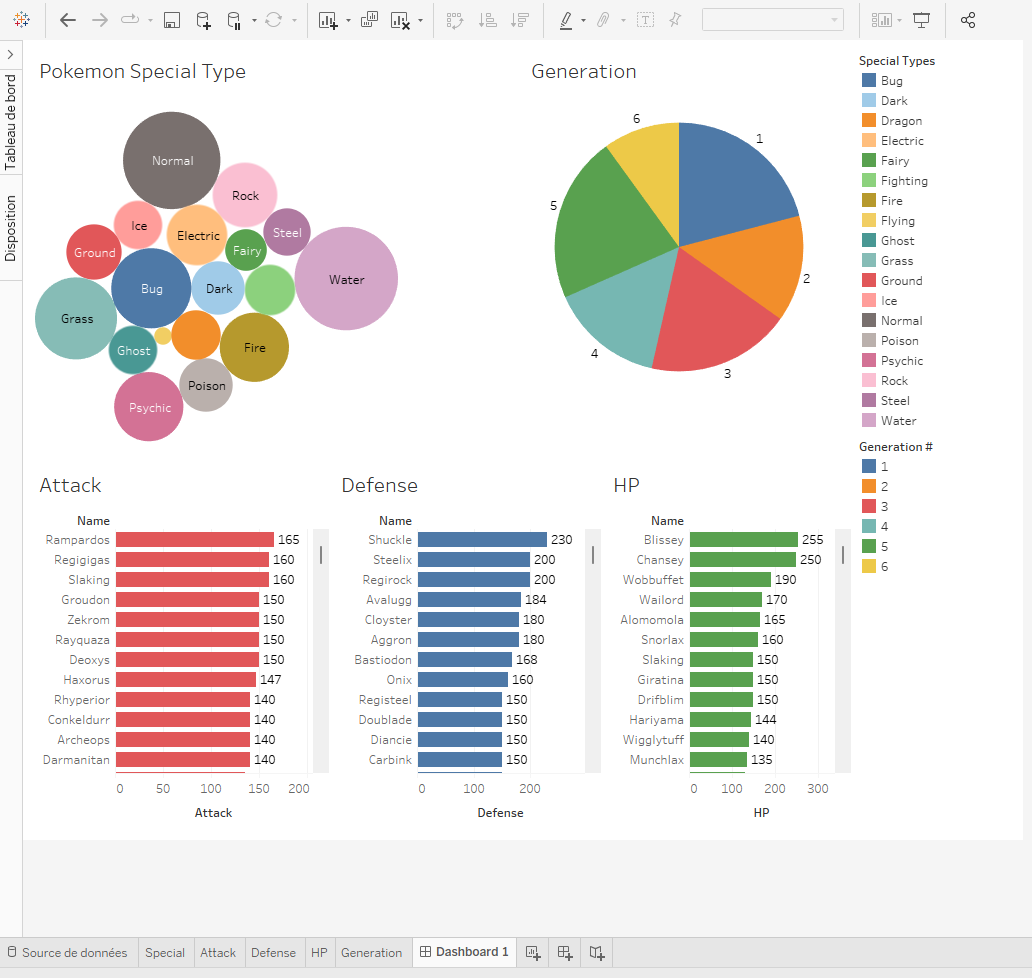

The page's visual inventory and layout, read from the dashboard file:
{"tool":"tableau","page":{"name":"Dashboard 1","canvas":[1000,800],"ordinal":0},"visuals":[{"type":"worksheet","title":"Special","mark":"Circle","box":[8,8,492,414]},{"type":"worksheet","title":"Generation","mark":"Pie","box":[500,8,332,414]},{"type":"legend","title":"Special","param":"[federated.1n69bmu0i95qzx1b2901k1pttq0b].[none:Type_1:nk]","box":[832,8,160,386]},{"type":"legend","title":"Generation","param":"[federated.1n69bmu0i95qzx1b2901k1pttq0b].[Generation (group)]","box":[832,394,160,146]},{"type":"worksheet","title":"Attack","mark":"Automatic","rows":["Name"],"cols":["Attack"],"box":[8,422,302,370]},{"type":"worksheet","title":"Defense","mark":"Automatic","rows":["Name"],"cols":["Defense"],"box":[310,422,272,370]},{"type":"worksheet","title":"HP","mark":"Automatic","rows":["Name"],"cols":["HP"],"box":[582,422,250,370]}]}

Visuals, with their boxes on the page's 1000x800 design canvas (x1, y1, x2, y2). These are canvas units, not pixel positions in the 1032x978 screenshot, which may show the page scaled, cropped or inside an application window:
"Special" worksheet (Circle marks): [8,8,500,422]
"Generation" worksheet (Pie marks): [500,8,832,422]
"Special" legend: [832,8,992,394]
"Generation" legend: [832,394,992,540]
"Attack" worksheet: [8,422,310,792]
"Defense" worksheet: [310,422,582,792]
"HP" worksheet: [582,422,832,792]
